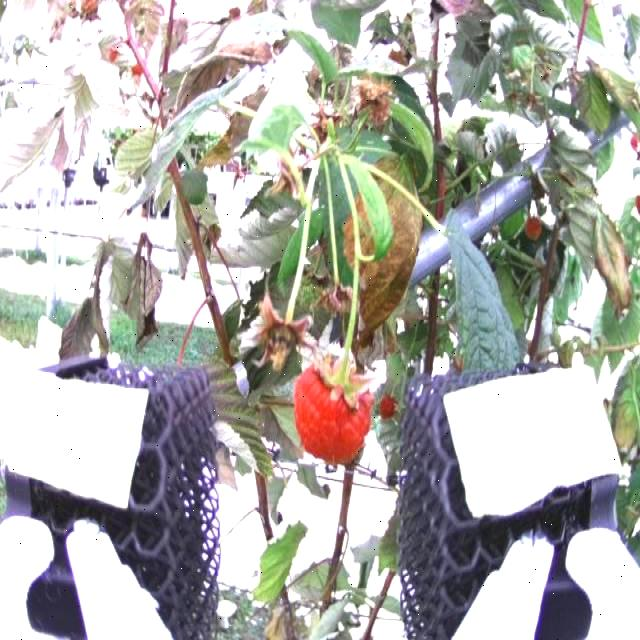Riped berries: (291, 354, 376, 466), (522, 210, 550, 246), (377, 392, 402, 426)
